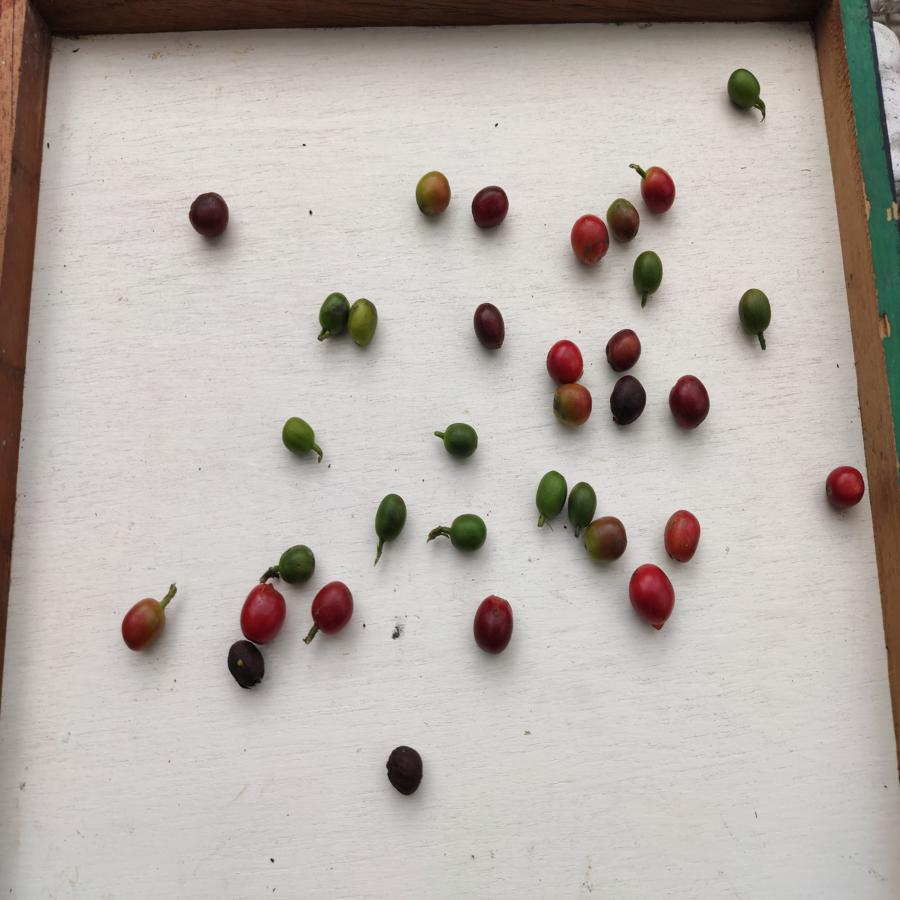Inmaduro: (424, 509, 488, 552), (366, 490, 409, 549), (277, 412, 325, 464), (433, 418, 484, 461), (736, 284, 774, 338), (311, 290, 348, 344), (530, 466, 566, 518), (274, 537, 315, 582), (727, 65, 763, 114), (348, 293, 379, 346), (632, 250, 666, 294), (567, 479, 598, 525)
Maduro: (627, 562, 678, 632), (236, 584, 293, 645), (307, 579, 367, 636), (116, 592, 168, 653), (569, 211, 609, 268), (663, 506, 702, 564), (821, 461, 867, 510), (541, 339, 587, 384), (639, 165, 677, 214)
Pinton: (551, 381, 594, 430), (582, 519, 628, 562), (411, 169, 453, 216)
Sobremaduro: (668, 373, 712, 431), (383, 742, 426, 799), (474, 593, 515, 652), (606, 372, 648, 429), (188, 191, 230, 238), (600, 326, 643, 371), (226, 641, 267, 686), (473, 303, 511, 351), (471, 186, 509, 231)
